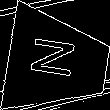N_E: (29, 39, 86, 86)
